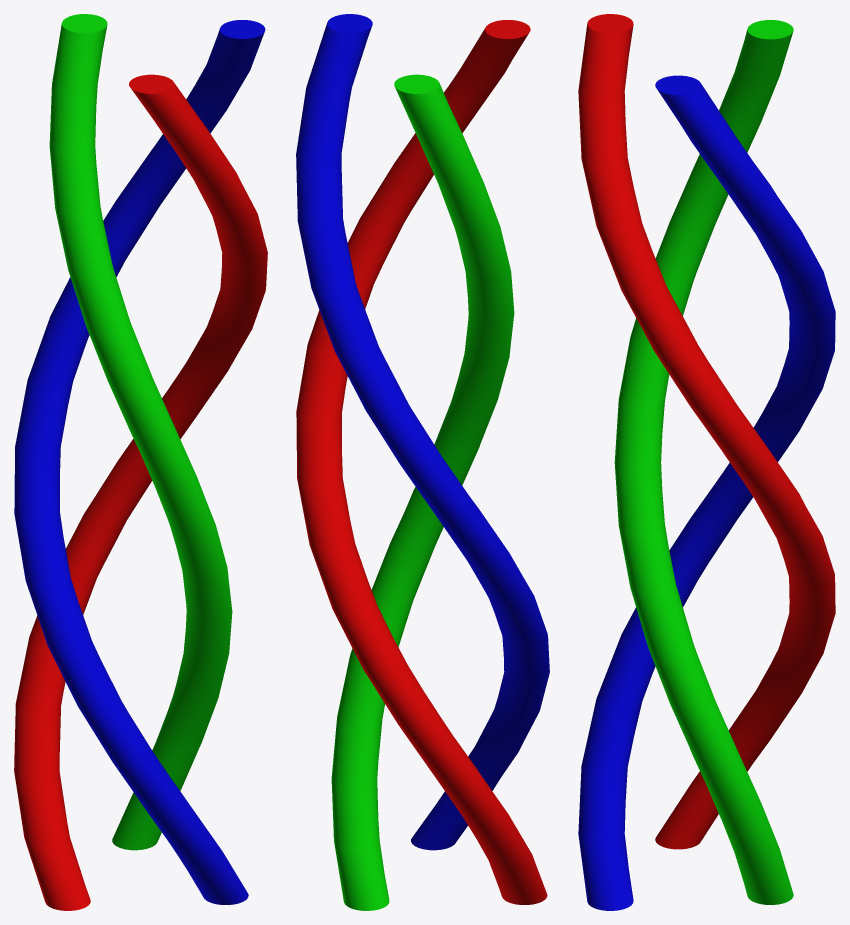
Rendered from S_ExampleTwist.FBX.
The picture shows the model from 3 angles, left to right: view 1: azimuth 30°, elevation 25°; view 2: azimuth 150°, elevation 25°; view 3: azimuth 270°, elevation 25°; orthographic projection.
Parts seen in each view (by area): view 1: S_ExampleTwist; view 2: S_ExampleTwist; view 3: S_ExampleTwist.
Part boxes in pixels (left/top/right/bottom): S_ExampleTwist: left=14, top=14, right=267, bottom=910; S_ExampleTwist: left=296, top=14, right=549, bottom=910; S_ExampleTwist: left=578, top=14, right=835, bottom=910.
Size of what is drawn, in the model's own units: 27.87 by 27.73 by 100.
